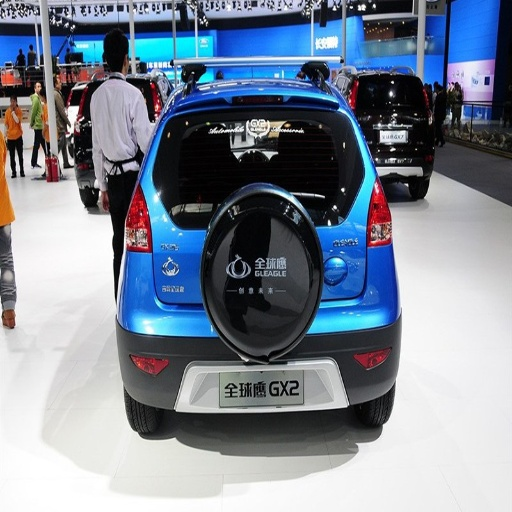back_bumper: (115, 247, 403, 414)
tailgate: (205, 240, 319, 355)
trunk: (152, 108, 257, 307), (259, 185, 369, 296)
